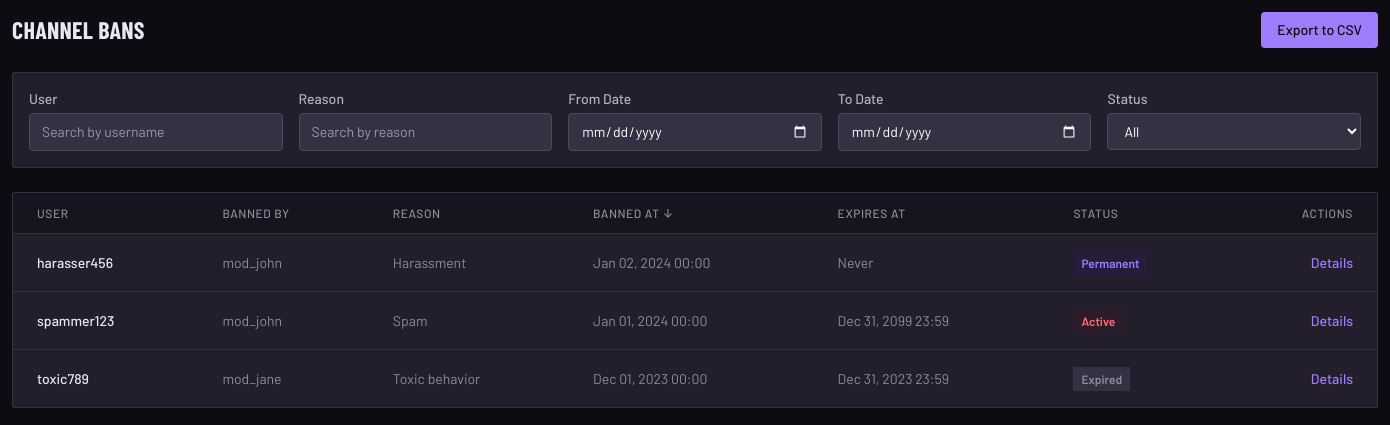
Test: BanListViewer › Sorting › sorts by username when header is clicked
Expected: the text "spammer123" is shown, left=13, top=292, right=198, bottom=350
What coordinates should you click on to do the following:
click the column heading "User"
I would click on:
 (53, 213)
Its box is left=13, top=193, right=198, bottom=234.
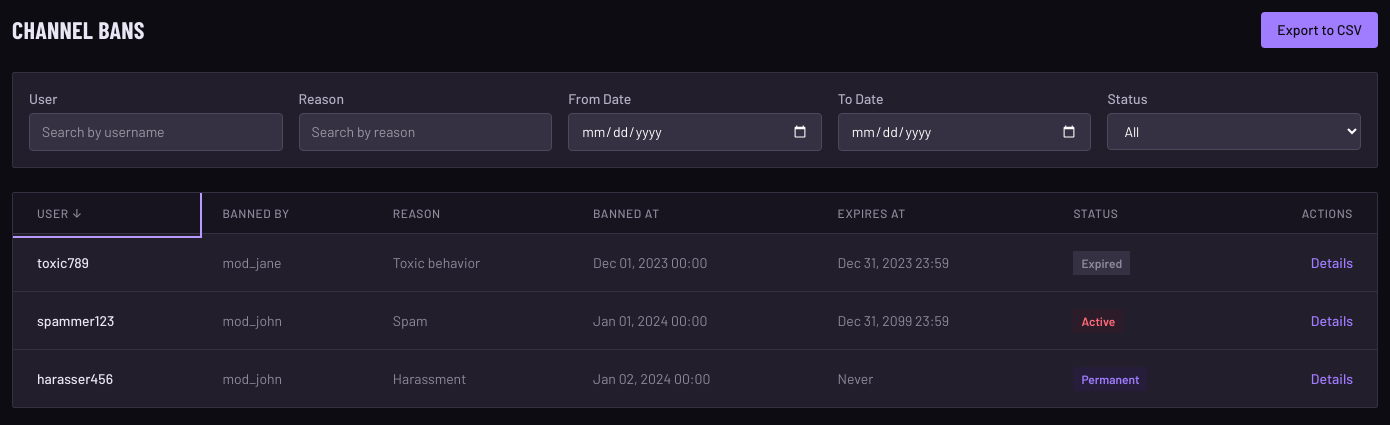
Expected: the column heading "User ↓" is shown, left=13, top=193, right=198, bottom=234
